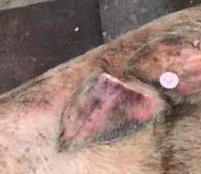text: (145, 62, 189, 100)
